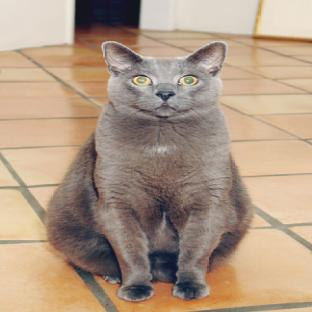Animal: (46, 41, 252, 301)
